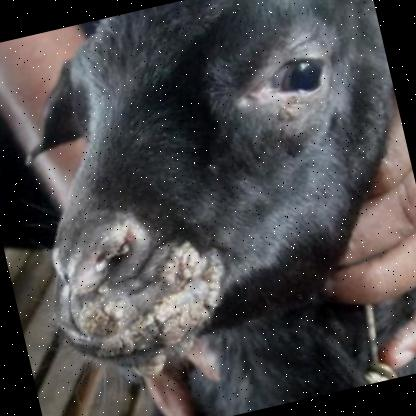ppr: (50, 257, 216, 372)
